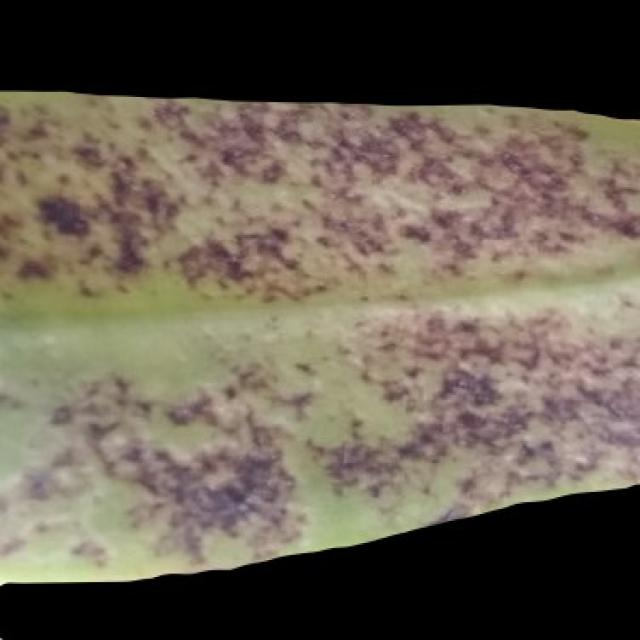mite: (0, 303, 429, 563), (0, 475, 638, 638), (436, 364, 500, 409), (36, 192, 90, 237), (14, 255, 51, 281), (289, 354, 318, 380)
